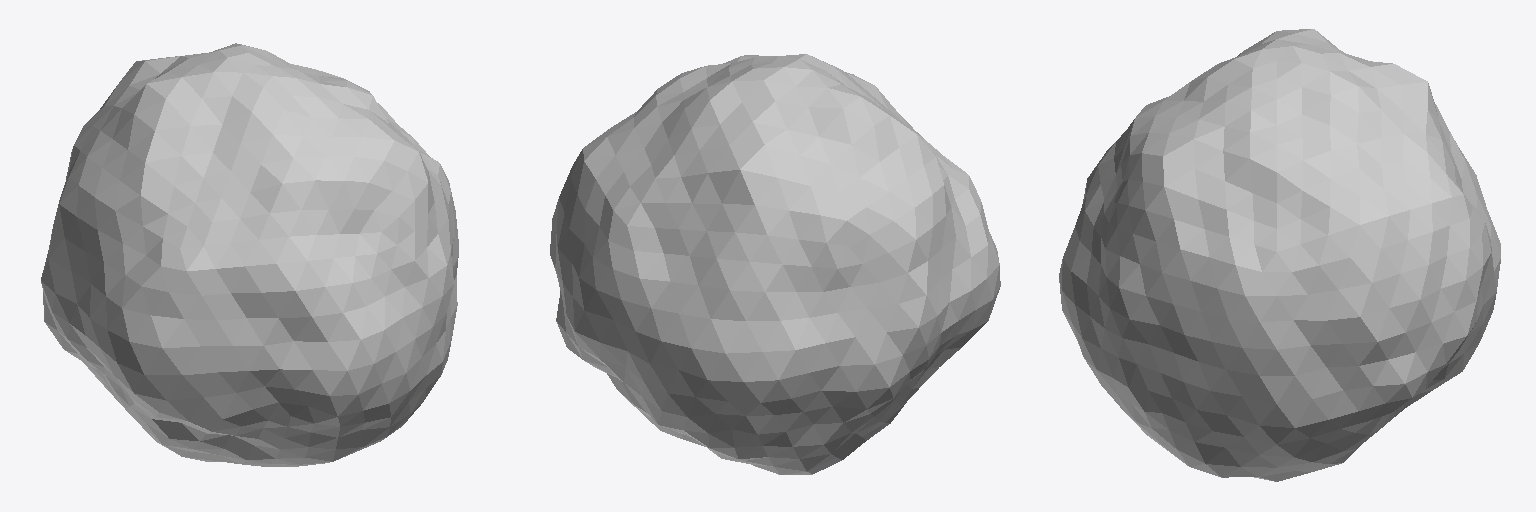
File: potatoe.obj
The picture shows the model from 3 angles: view 1: azimuth 30°, elevation 25°; view 2: azimuth 150°, elevation 25°; view 3: azimuth 270°, elevation 25°; orthographic projection.
Parts seen in each view (by area): view 1: Icosphere_Icosphere.002; view 2: Icosphere_Icosphere.002; view 3: Icosphere_Icosphere.002.
Part boxes in pixels (left/top/right/bottom): Icosphere_Icosphere.002: left=41, top=43, right=458, bottom=466; Icosphere_Icosphere.002: left=550, top=54, right=1000, bottom=474; Icosphere_Icosphere.002: left=1059, top=29, right=1500, bottom=481.
Bounding box in the file's own units: 2.04 × 2.09 × 2.11.